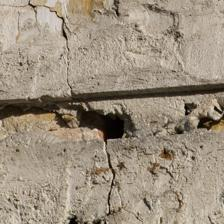Crack: (44, 16, 96, 211), (99, 120, 148, 224), (0, 59, 88, 93), (109, 0, 157, 53)
